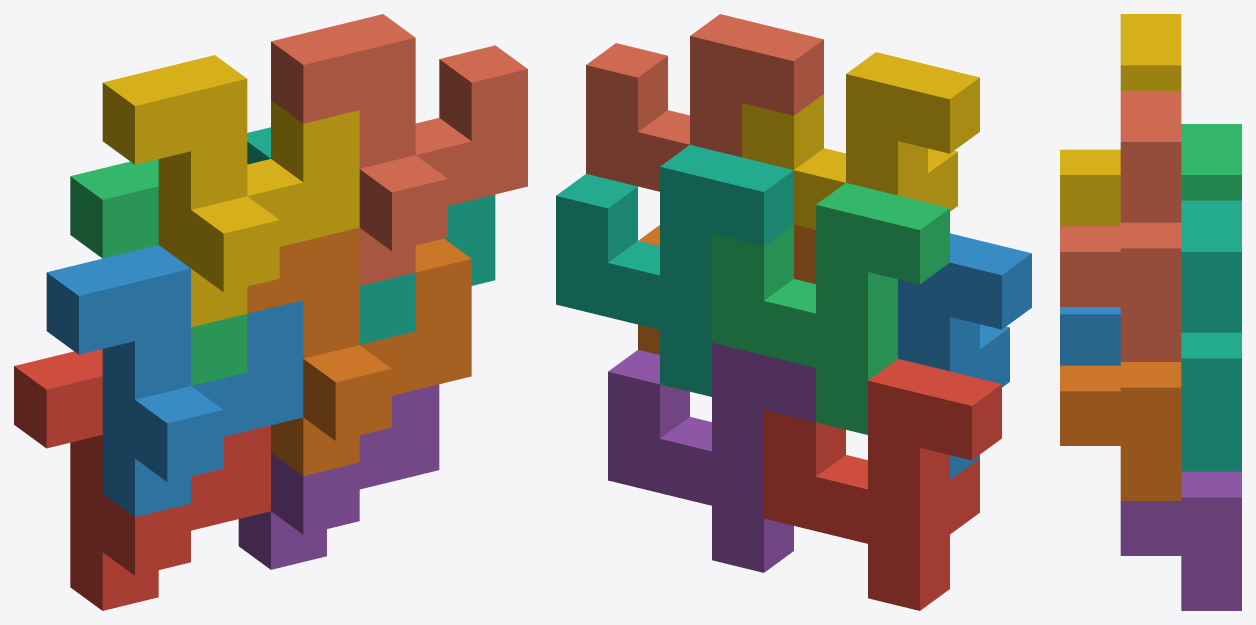
Rendered from tiling.obj.
The picture shows the model from 3 angles, left to right: view 1: azimuth 30°, elevation 25°; view 2: azimuth 150°, elevation 25°; view 3: azimuth 270°, elevation 25°; orthographic projection. The views are drawn at different scales.
Parts seen in each view (by area): view 1: copy_1_domain_4, copy_1_domain_2, copy_1_domain_8, copy_1_domain_6, copy_1_domain_1, copy_1_domain_5, copy_1_domain_3, copy_1_domain_7; view 2: copy_1_domain_1, copy_1_domain_3, copy_1_domain_7, copy_1_domain_5, copy_1_domain_8, copy_1_domain_4, copy_1_domain_2, copy_1_domain_6; view 3: copy_1_domain_8, copy_1_domain_7, copy_1_domain_6, copy_1_domain_5, copy_1_domain_4, copy_1_domain_3, copy_1_domain_2.
Part boxes in pixels (<box>): copy_1_domain_4: <box>102,55,359,327</box>; copy_1_domain_2: <box>46,245,303,516</box>; copy_1_domain_8: <box>271,14,527,285</box>; copy_1_domain_6: <box>247,227,471,475</box>; copy_1_domain_1: <box>14,349,270,610</box>; copy_1_domain_5: <box>238,384,439,569</box>; copy_1_domain_3: <box>70,159,247,385</box>; copy_1_domain_7: <box>247,127,495,344</box>; copy_1_domain_1: <box>764,359,1001,610</box>; copy_1_domain_3: <box>712,183,949,434</box>; copy_1_domain_7: <box>556,145,793,396</box>; copy_1_domain_5: <box>608,342,815,572</box>; copy_1_domain_8: <box>586,14,823,191</box>; copy_1_domain_4: <box>742,52,979,229</box>; copy_1_domain_2: <box>898,233,1031,479</box>; copy_1_domain_6: <box>638,224,815,354</box>; copy_1_domain_8: <box>1060,91,1181,361</box>; copy_1_domain_7: <box>1181,200,1241,471</box>; copy_1_domain_6: <box>1060,362,1181,500</box>; copy_1_domain_5: <box>1120,471,1241,610</box>; copy_1_domain_4: <box>1060,14,1181,226</box>; copy_1_domain_3: <box>1181,124,1241,200</box>; copy_1_domain_2: <box>1060,307,1120,365</box>.
Size of the model in its own units: 8 by 9 by 3.
